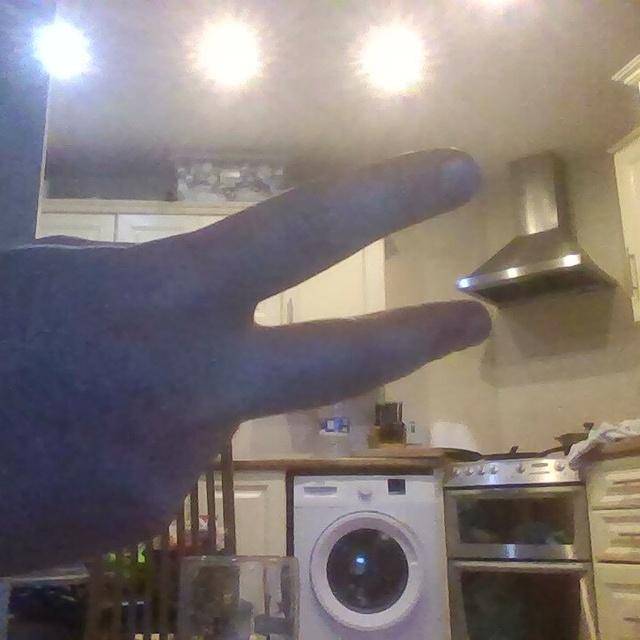scissors: (20, 144, 495, 572)
